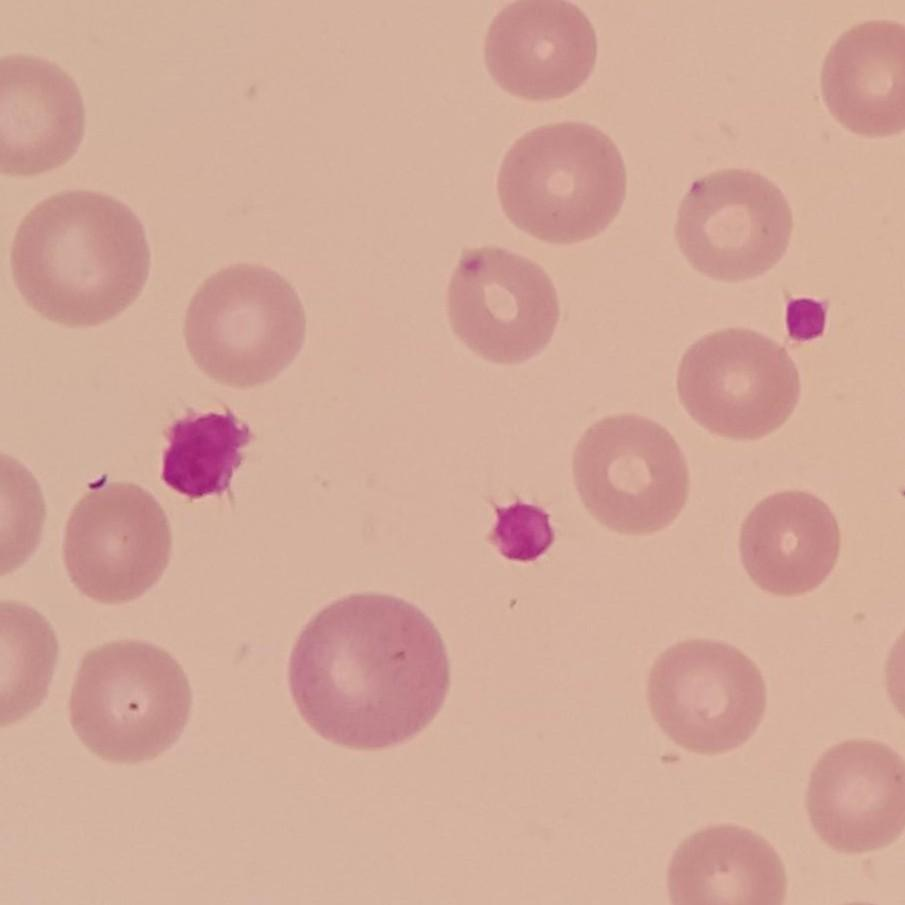Uninfected: (155, 288, 308, 446), (578, 9, 715, 148), (660, 498, 782, 625), (141, 68, 262, 189), (517, 184, 638, 303), (369, 574, 487, 689), (621, 675, 736, 792), (150, 647, 264, 765), (539, 447, 657, 560), (464, 678, 575, 798), (308, 65, 425, 167), (803, 484, 905, 597), (50, 807, 163, 905), (307, 739, 412, 839), (767, 822, 880, 904)
